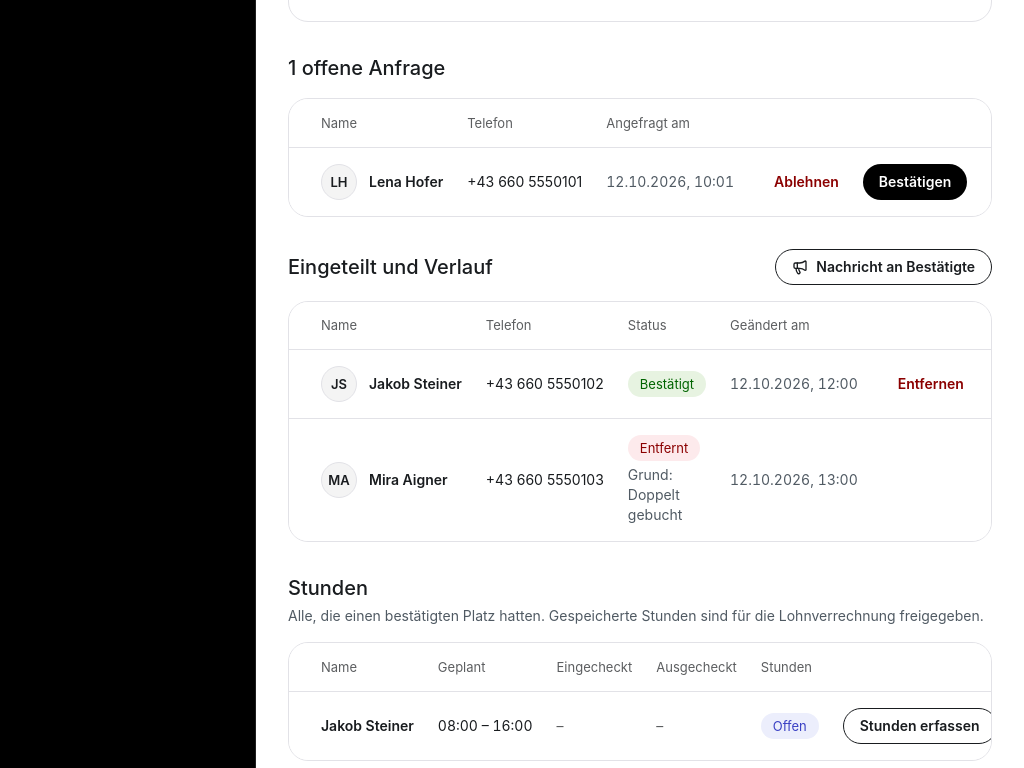
Scenario: shift detail › removes a confirmed worker only with a reason
(page scrolled)
Click the button with aria-label "Jakob Steiner entfernen": (931, 384) 882,366 -> 980,402
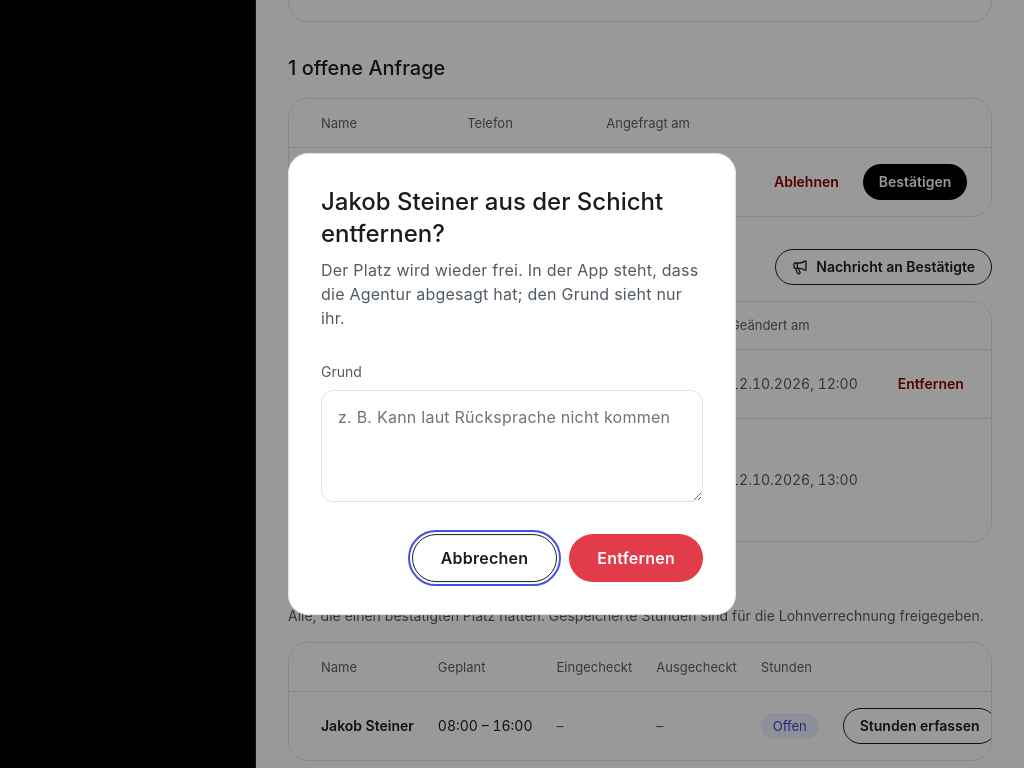
Click the button "Entfernen": (636, 558) 569,534 -> 703,582
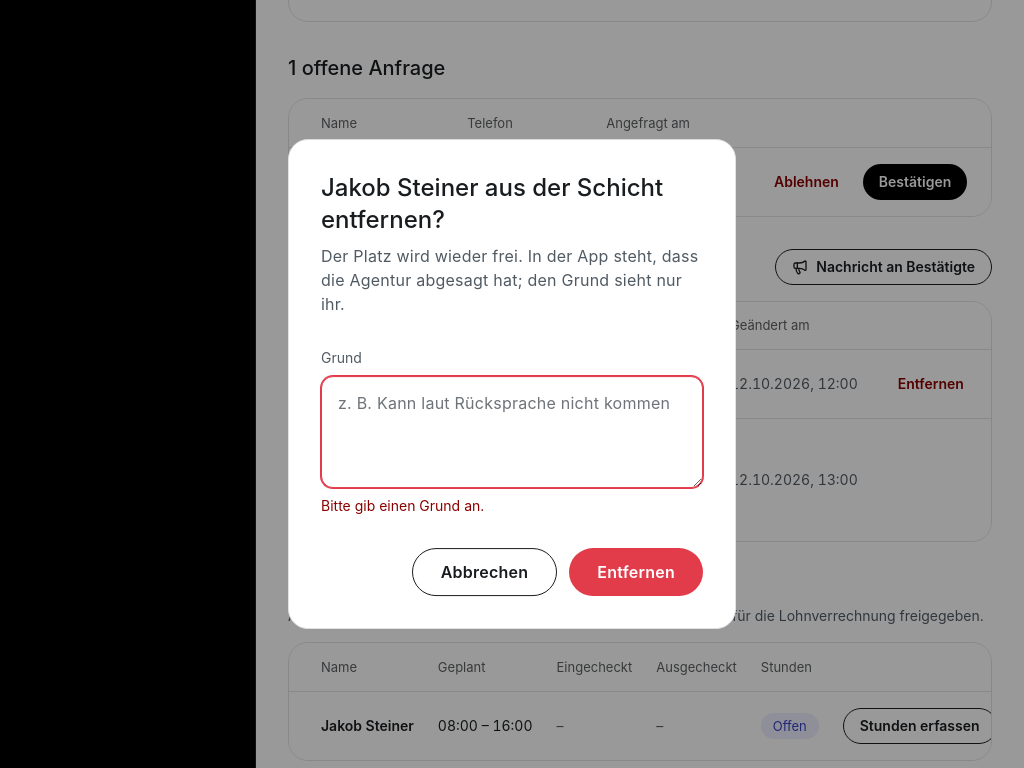
Expected: the text "Bitte gib einen Grund an." is shown, 321,497 -> 484,514
In the text box labelled "Grund": (512, 432) 321,376 -> 703,488, type "Kann laut Rücksprache nicht kommen"
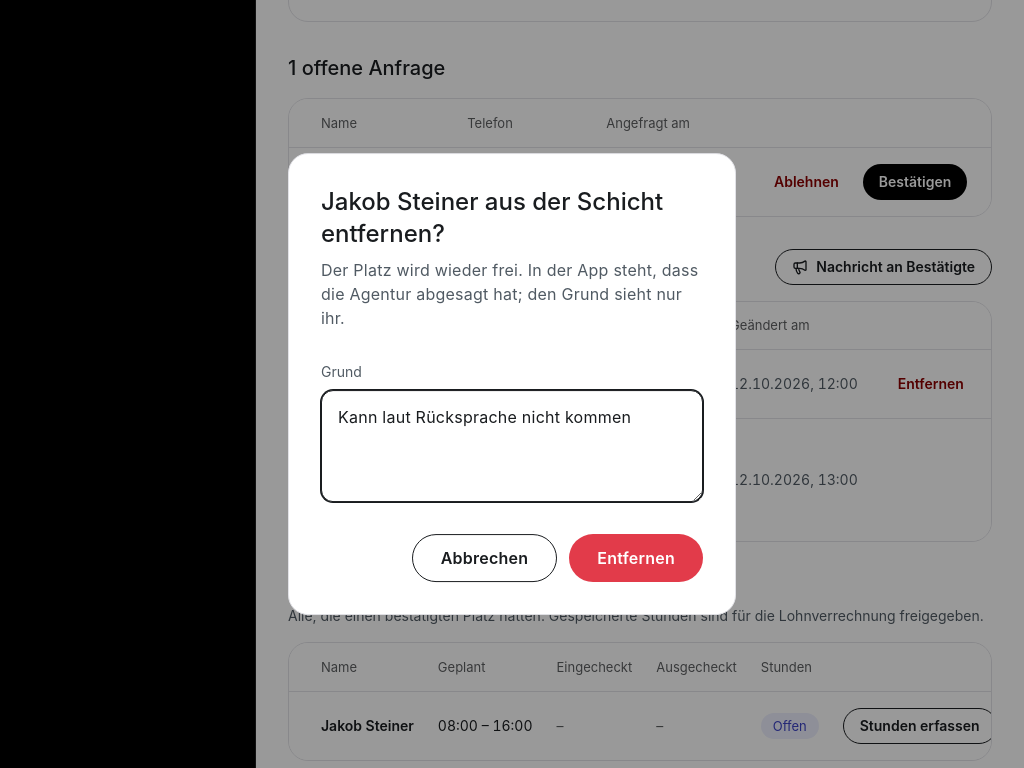
Click the button "Entfernen": (636, 558) 569,534 -> 703,582
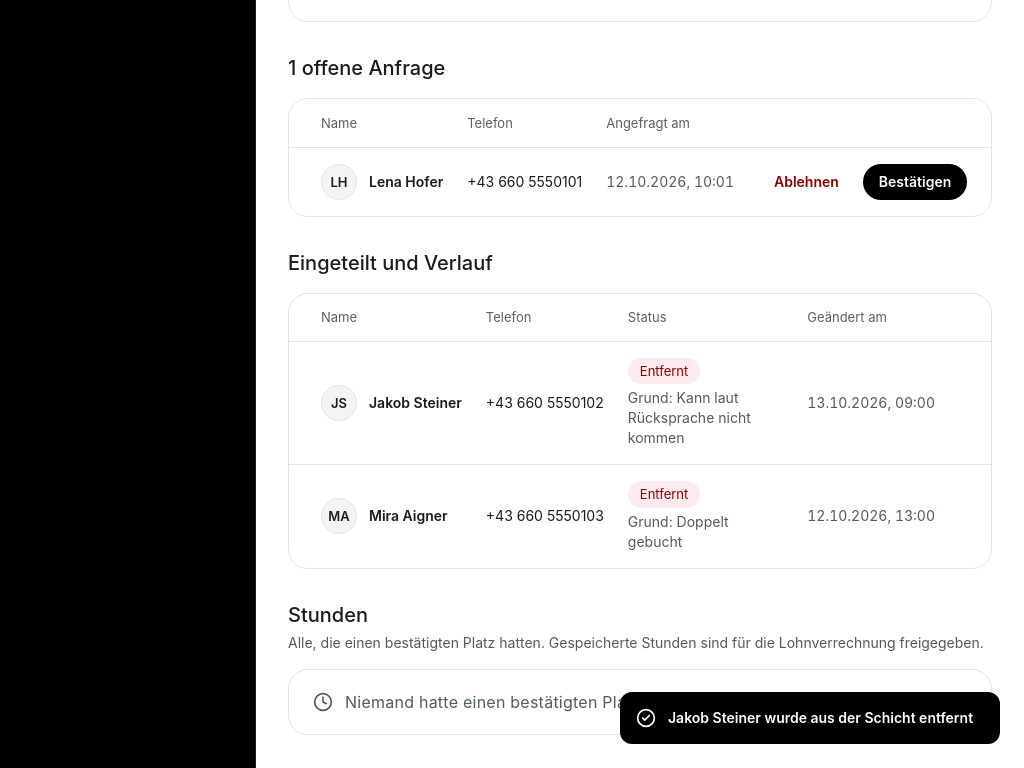
Expected: the text "Jakob Steiner wurde aus der Schicht entfernt" is shown, 668,708 -> 973,728
Expected: the dialog is gone
Expected: the text "Grund: Kann laut Rücksprache nicht kommen" is shown, 628,389 -> 751,446
